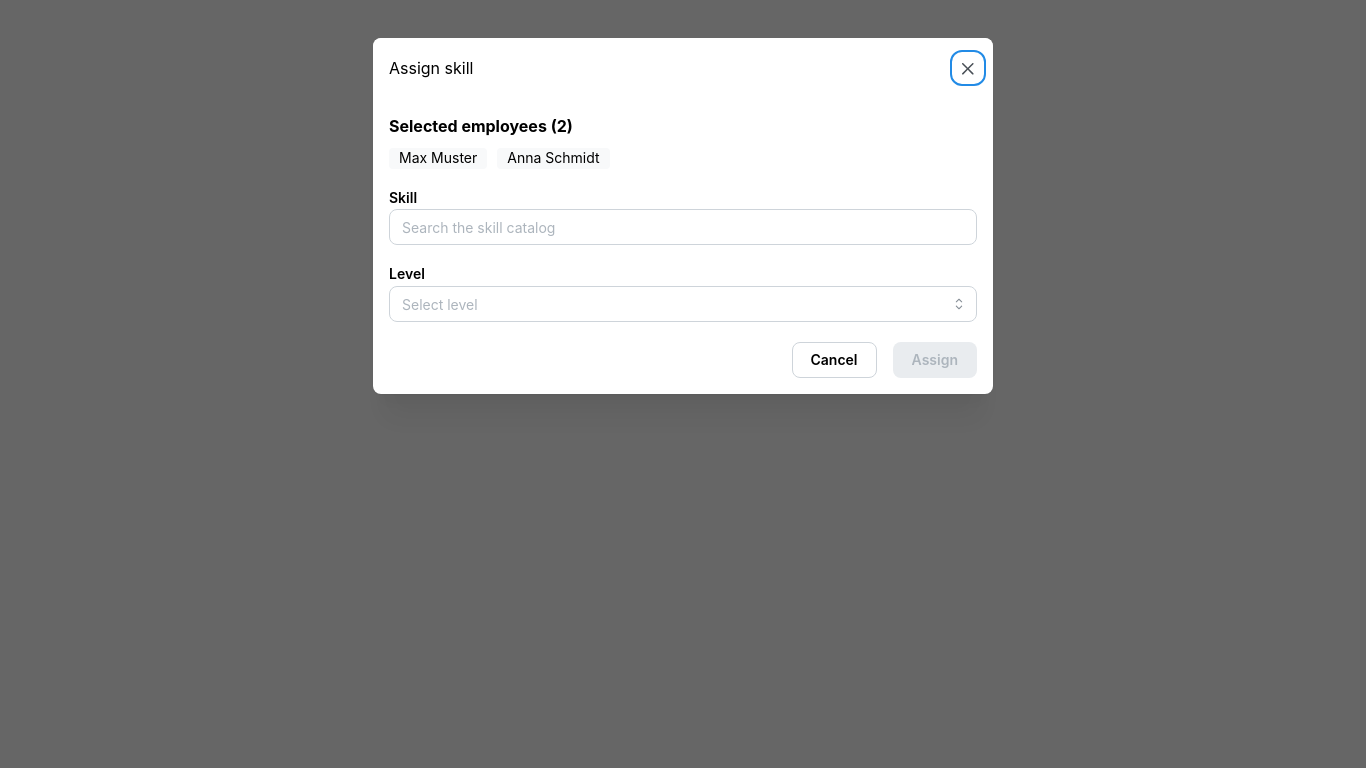
Test: AssignSkillDialog › words the warning for a single employee who already has the skill
In the field labelled "Skill": (683, 228) [389,210,977,246], type "Python"
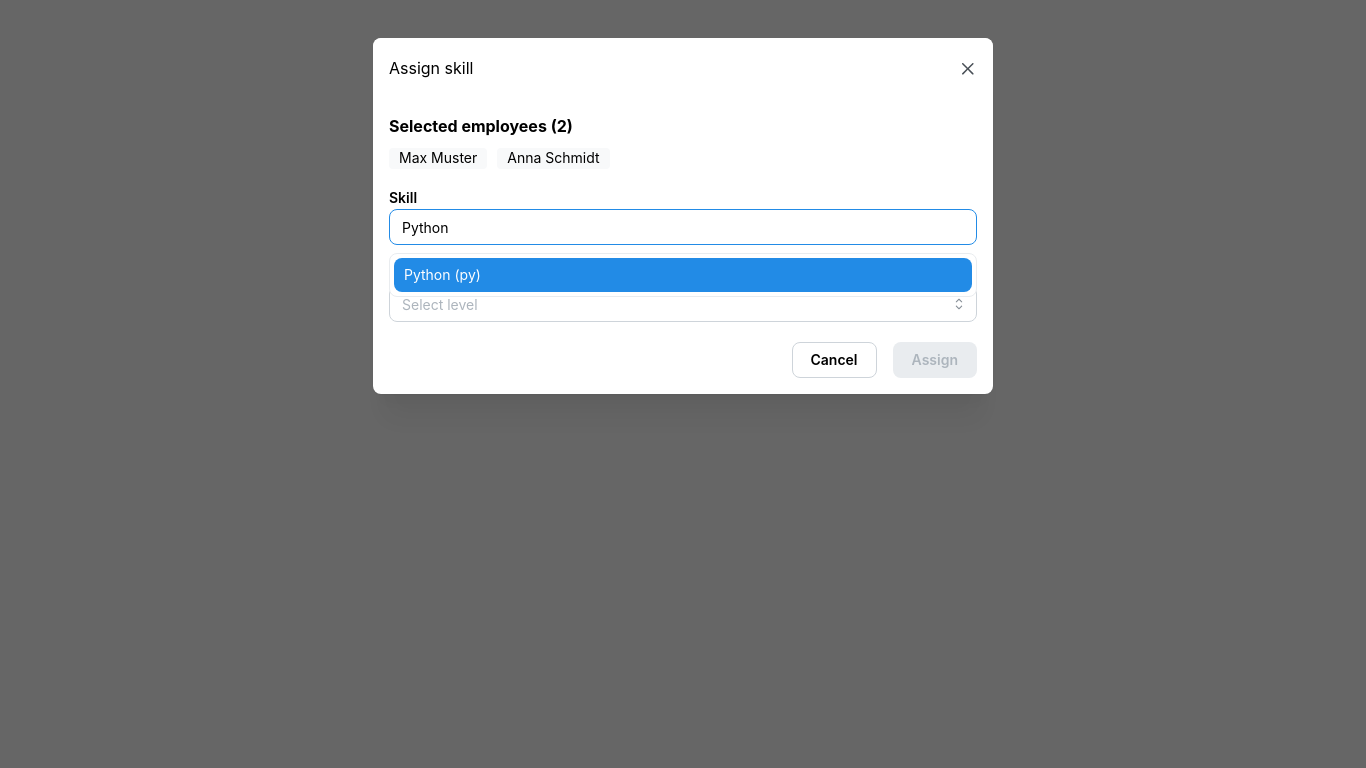
Click the option "Python (py)": (442, 275) [394,258,972,292]
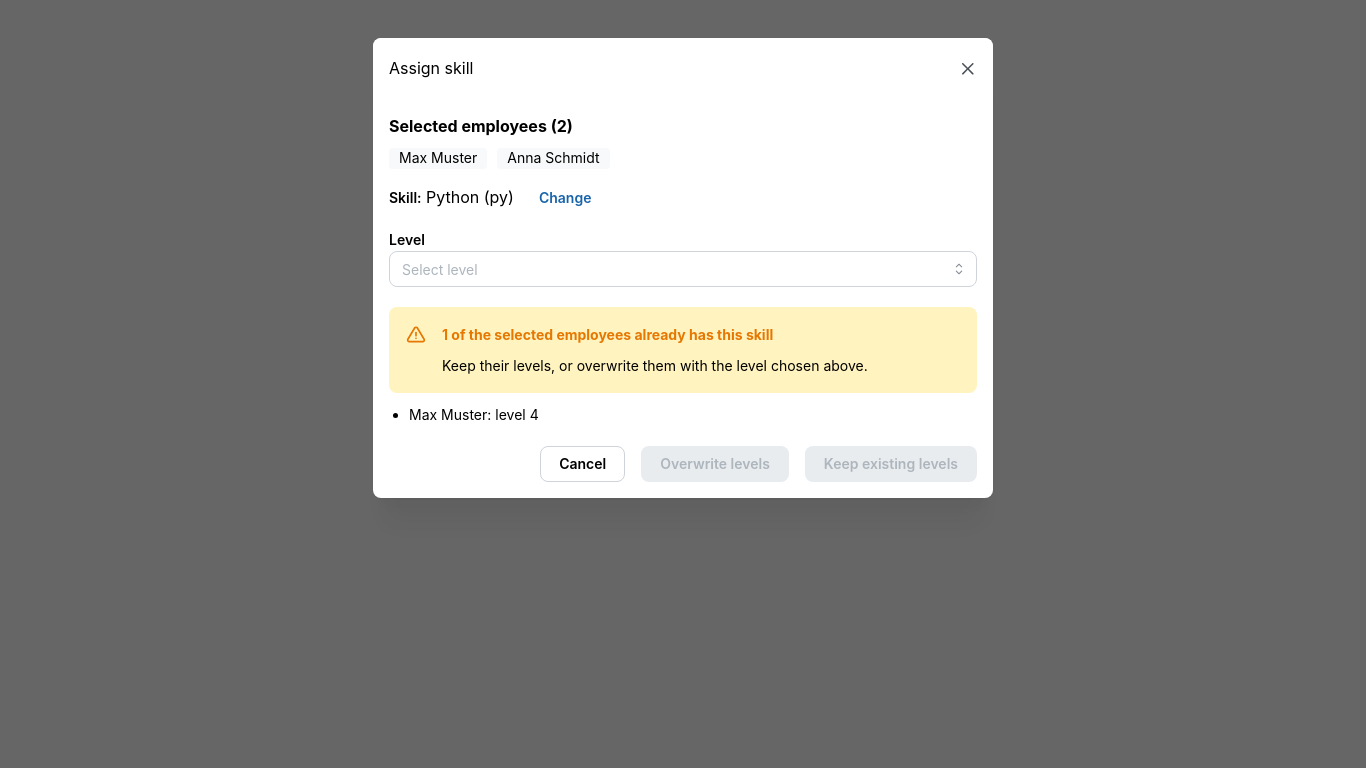
Now the option is gone
Now the text "1 of the selected employees already has this skill" is shown, box [442,324,773,346]
